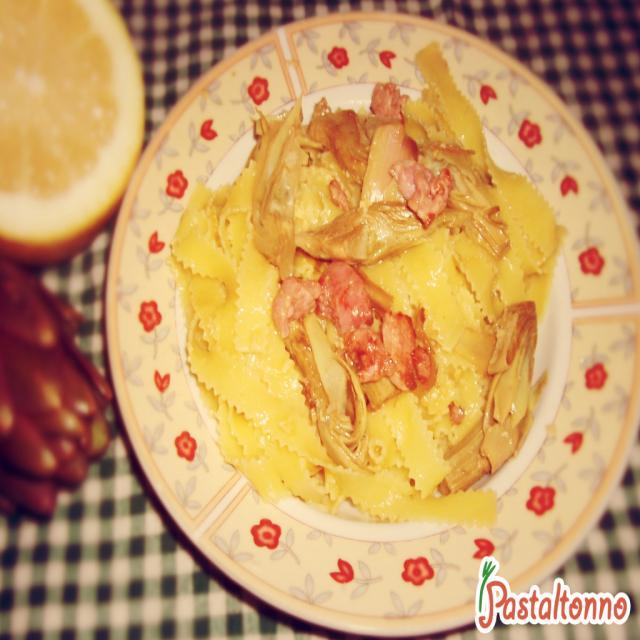Pasta with carbonara sauce: (139, 49, 619, 548)
